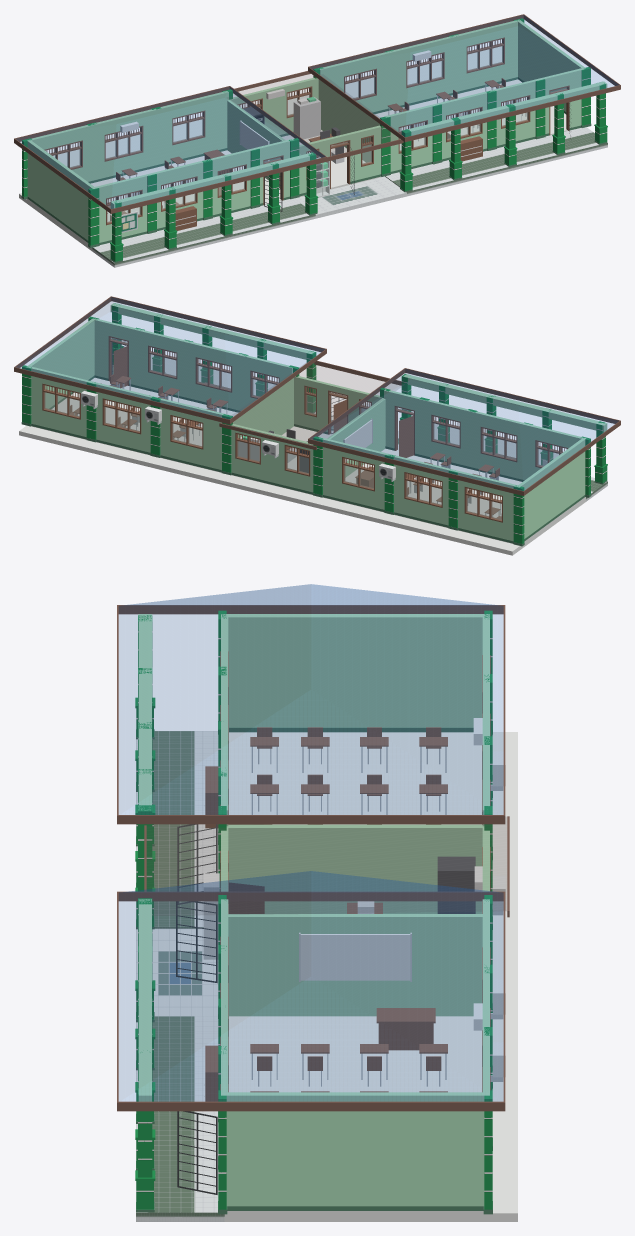
The model's file is gedung_sekolah_3ruangan_cutaway.glb.
3 views of the same model, one above another, from view 1: azimuth 30°, elevation 25°; view 2: azimuth 150°, elevation 25°; view 3: azimuth 270°, elevation 25° (orthographic). The views are drawn at different scales.
Parts seen in each view (by area): view 1: Atap_Utama_Biru, Dinding_Mint, Tiang_Dan_Pilaster_Hijau, Lantai_Beranda_Kelas, Kusen_Pintu_Meja_Kelas, Atap_Lisplang_Coklat, Atap_Kanopi_Tengah, Kaca_Jendela_Transparan, Lantai_Interior_Dan_Selasar, Lantai_Beranda_Kantor_Jurusan, Plint_Bawah, Interior_Rangka_Rak_Dan_Meja (+2 smaller); view 2: Dinding_Mint, Atap_Utama_Biru, Kusen_Pintu_Meja_Kelas, Lantai_Interior_Dan_Selasar, Tiang_Dan_Pilaster_Hijau, Atap_Lisplang_Coklat, Atap_Kanopi_Tengah, Kaca_Jendela_Transparan, Plint_Bawah, Interior_Rangka_Rak_Dan_Meja, Properti_Putih_Dan_Whiteboard, AC_Outdoor_Belakang; view 3: Atap_Utama_Biru, Dinding_Mint, Lantai_Interior_Dan_Selasar, Atap_Kanopi_Tengah, Lantai_Beranda_Kelas, Atap_Lisplang_Coklat, Kusen_Pintu_Meja_Kelas, Tiang_Dan_Pilaster_Hijau, Properti_Putih_Dan_Whiteboard, Lantai_Beranda_Kantor_Jurusan, Teralis_Besi_Hitam, Plint_Bawah (+2 smaller).
Boxes of the visible parts, x1,y1,x2,y2 form: Atap_Utama_Biru: [17, 15, 618, 208]; Dinding_Mint: [27, 19, 607, 242]; Tiang_Dan_Pilaster_Hijau: [22, 18, 607, 261]; Lantai_Beranda_Kelas: [92, 127, 607, 267]; Kusen_Pintu_Meja_Kelas: [44, 37, 569, 230]; Atap_Lisplang_Coklat: [14, 14, 620, 213]; Atap_Kanopi_Tengah: [228, 72, 400, 158]; Kaca_Jendela_Transparan: [53, 46, 566, 222]; Lantai_Interior_Dan_Selasar: [19, 79, 567, 250]; Lantai_Beranda_Kantor_Jurusan: [294, 176, 406, 218]; Plint_Bawah: [21, 77, 607, 262]; Interior_Rangka_Rak_Dan_Meja: [110, 83, 526, 214]; Dinding_Mint: [26, 303, 607, 541]; Atap_Utama_Biru: [17, 297, 618, 490]; Kusen_Pintu_Meja_Kelas: [42, 336, 568, 522]; Lantai_Interior_Dan_Selasar: [19, 377, 585, 555]; Tiang_Dan_Pilaster_Hijau: [22, 303, 607, 543]; Atap_Lisplang_Coklat: [14, 296, 620, 495]; Atap_Kanopi_Tengah: [223, 361, 404, 445]; Kaca_Jendela_Transparan: [44, 338, 558, 520]; Plint_Bawah: [21, 364, 607, 546]; Interior_Rangka_Rak_Dan_Meja: [74, 379, 500, 516]; Properti_Putih_Dan_Whiteboard: [81, 391, 547, 479]; AC_Outdoor_Belakang: [81, 393, 392, 479]; Atap_Utama_Biru: [119, 584, 502, 1100]; Dinding_Mint: [138, 614, 489, 1206]; Lantai_Interior_Dan_Selasar: [224, 732, 517, 1221]; Atap_Kanopi_Tengah: [147, 817, 506, 915]; Lantai_Beranda_Kelas: [136, 731, 224, 1221]; Atap_Lisplang_Coklat: [117, 605, 509, 1111]; Kusen_Pintu_Meja_Kelas: [205, 651, 490, 1101]; Tiang_Dan_Pilaster_Hijau: [135, 610, 492, 1209]; Properti_Putih_Dan_Whiteboard: [203, 718, 505, 1096]; Lantai_Beranda_Kantor_Jurusan: [136, 928, 218, 1016]; Teralis_Besi_Hitam: [176, 824, 217, 1194]; Plint_Bawah: [136, 721, 492, 1214].
Bounding box in the file's own units: 27.9 × 5.25 × 9.5.
19 materials, 8 textured.
